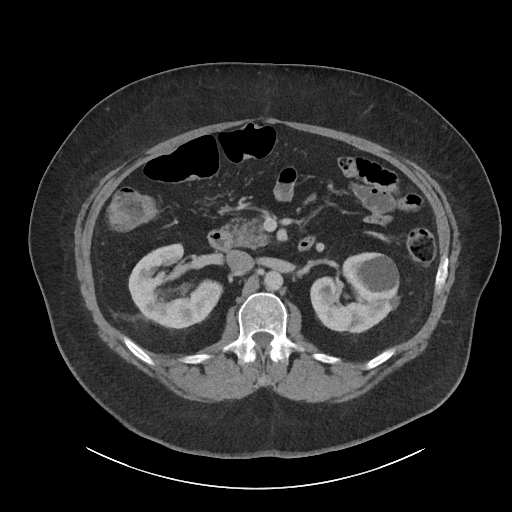Lesion: (358, 253, 401, 297)
